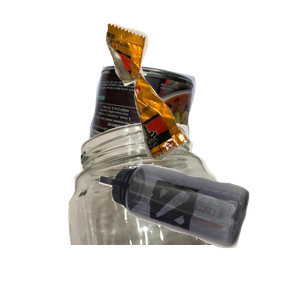glass: (61, 120, 287, 300)
metal: (78, 63, 266, 243)
plastic: (97, 162, 300, 300)
trash: (103, 21, 300, 174)
